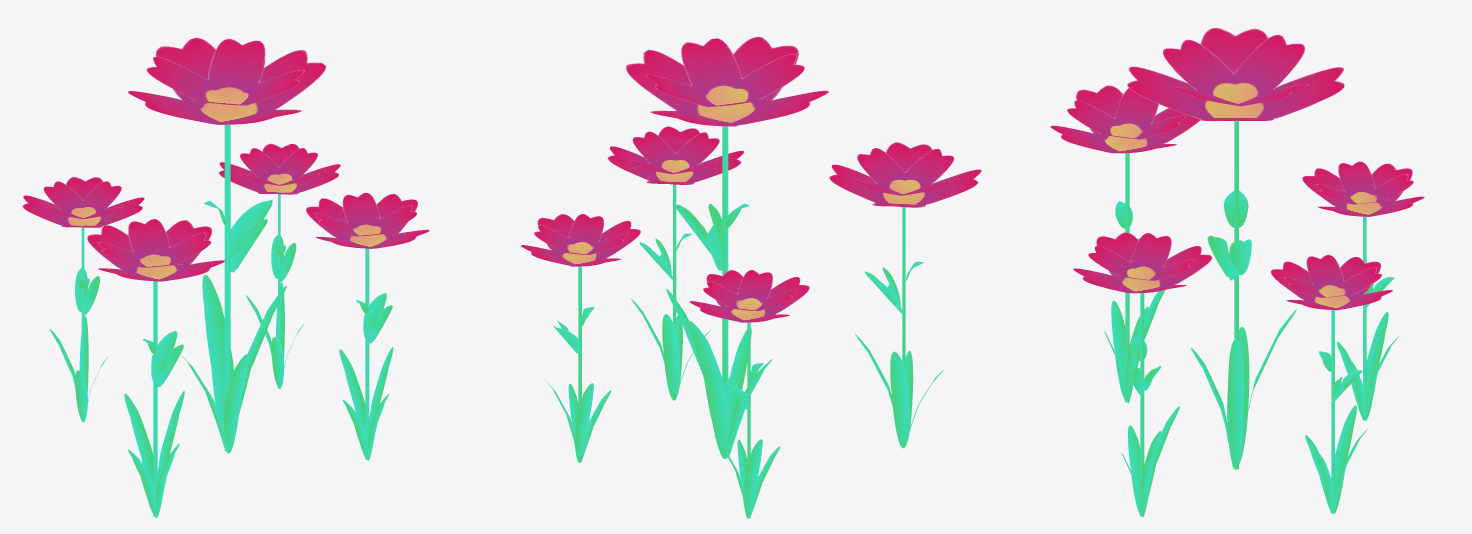
File: Flower_n_04.fbx
3 renders of one model, left to right at view 1: azimuth 30°, elevation 25°; view 2: azimuth 150°, elevation 25°; view 3: azimuth 270°, elevation 25°, orthographic. The views are drawn at different scales.
Parts seen in each view (by area): view 1: polySurface277; view 2: polySurface277; view 3: polySurface277.
Part boxes in pixels (x1,y1,x2,y2): polySurface277: (22, 37, 429, 517); polySurface277: (520, 36, 981, 518); polySurface277: (1050, 28, 1424, 517).
Size of the model in its own units: 68.47 by 64.84 by 63.73.
1 material, 1 textured.
